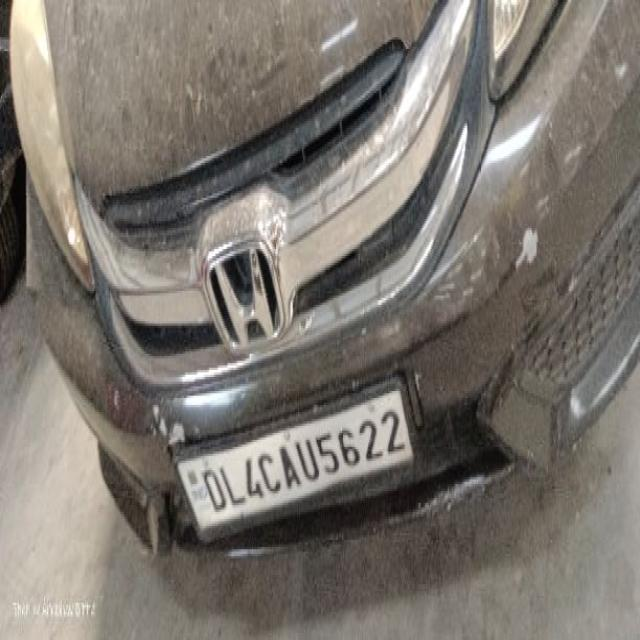license_plate: (9, 0, 639, 556), (170, 370, 416, 545)
